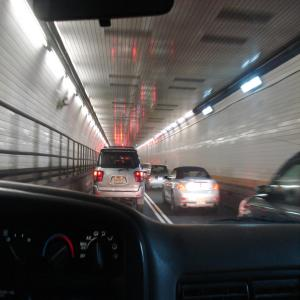Vehicle-registration-plate: (115, 177, 124, 185)
